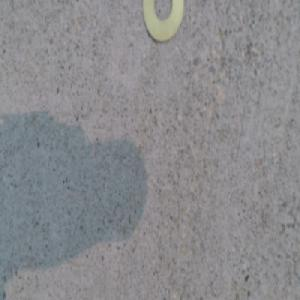Washer: (142, 0, 184, 44)
